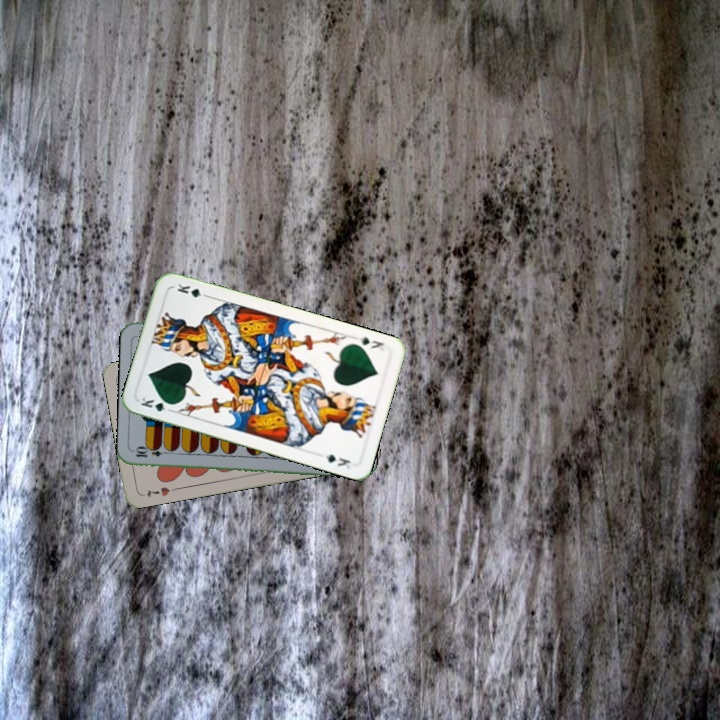E10: (132, 445, 172, 460)
GK: (137, 393, 177, 415), (351, 333, 386, 353)
H7: (143, 483, 172, 500)
